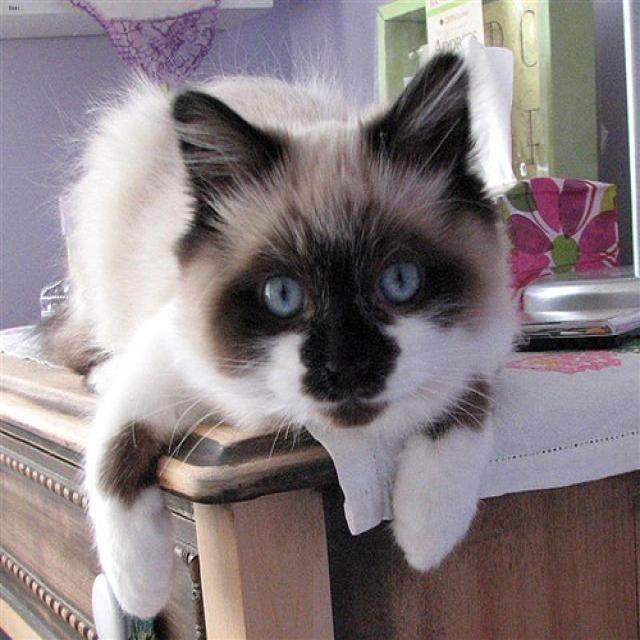Ragdoll: (171, 50, 466, 429)
